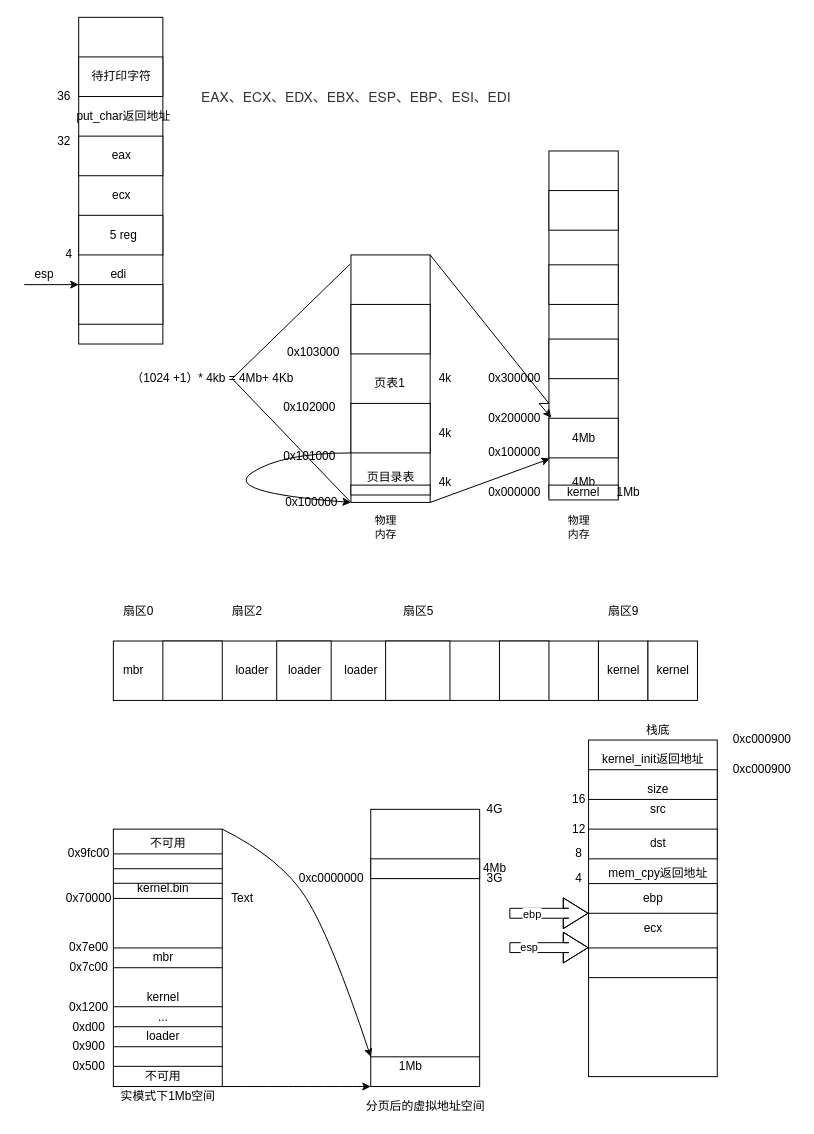
Some shapes in this 814 by 1134 pixel diagram are drawn without their labels. Each missing label, with the box of its shape:
kernel线性地址: (370, 858, 480, 879)
页表0: (350, 402, 430, 453)
页表2: (350, 303, 430, 354)
